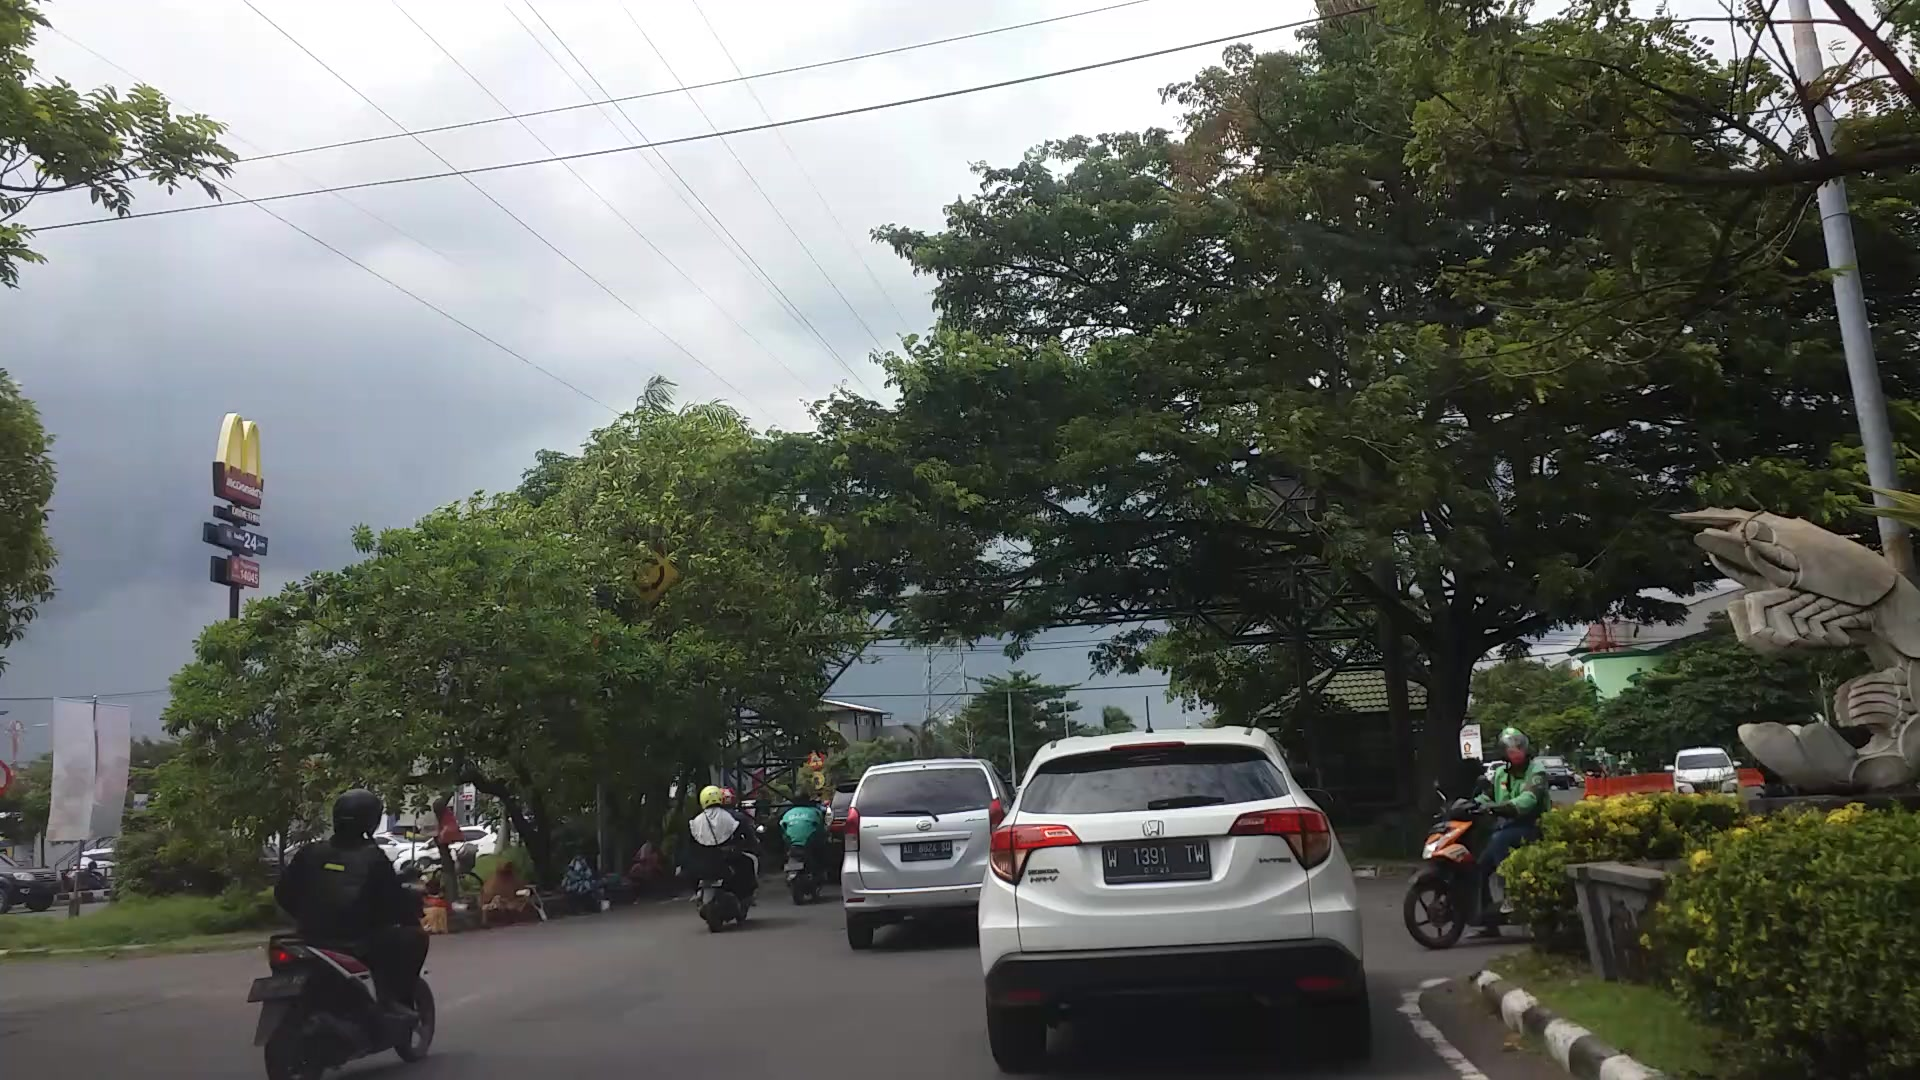plate_positive: (1104, 840, 1211, 884)
